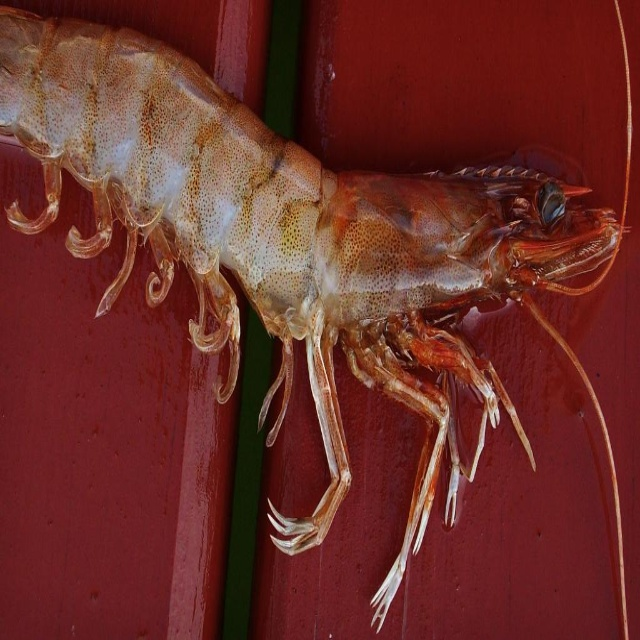Shrimp: (0, 0, 632, 640)
